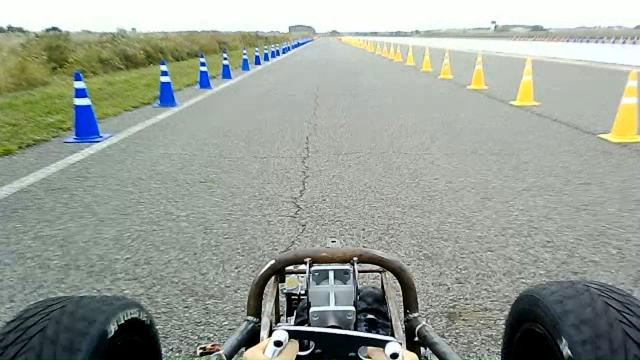blue cone: (62, 70, 111, 143), (152, 58, 180, 108), (195, 52, 213, 90), (220, 48, 233, 79), (241, 47, 250, 71), (253, 47, 262, 66), (262, 45, 270, 62), (270, 44, 276, 58)
yellow cone: (597, 69, 639, 143), (509, 56, 541, 107), (466, 52, 489, 90), (438, 49, 454, 79), (420, 46, 434, 72), (405, 44, 415, 66), (393, 43, 403, 62), (387, 42, 396, 60), (381, 43, 389, 58), (374, 42, 382, 55), (367, 40, 374, 53)
